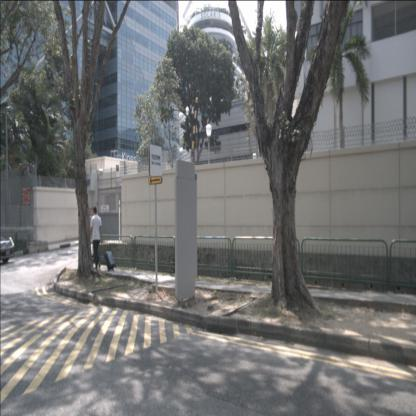human-pedestrian-adult: (90, 206, 116, 272)
vehicle-car: (0, 232, 15, 264)
